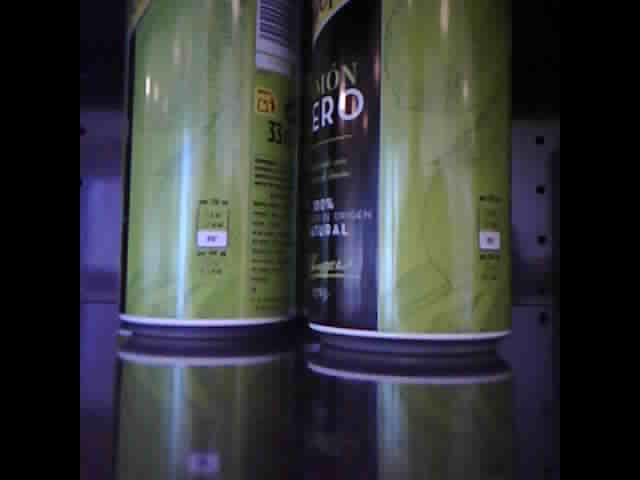schweppes: (302, 1, 515, 353), (115, 6, 294, 340)
